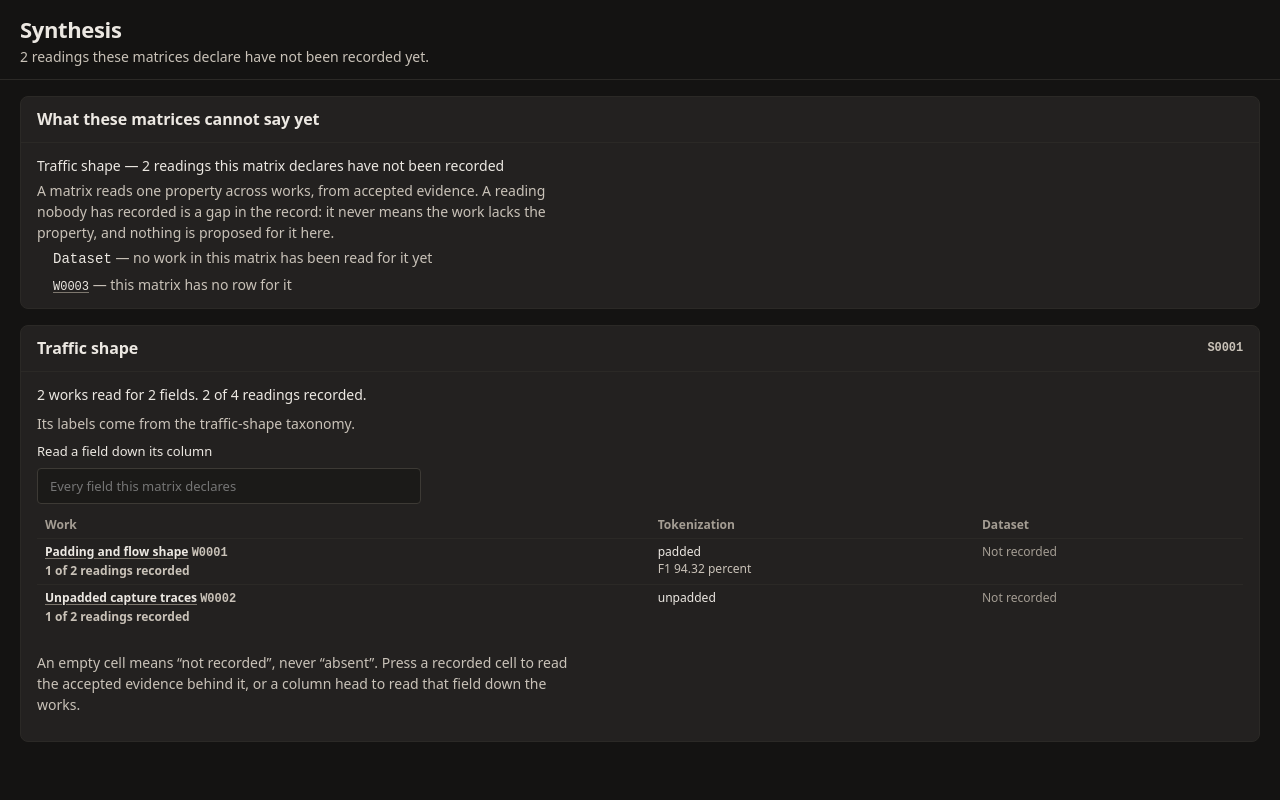
Test: the synthesis page › reads a column down by pressing its head, and unmarks it by pressing again
The width and height of the screenshot is (1280, 800).
Click the button "Tokenization" at [696, 525], box [658,516,966,534]
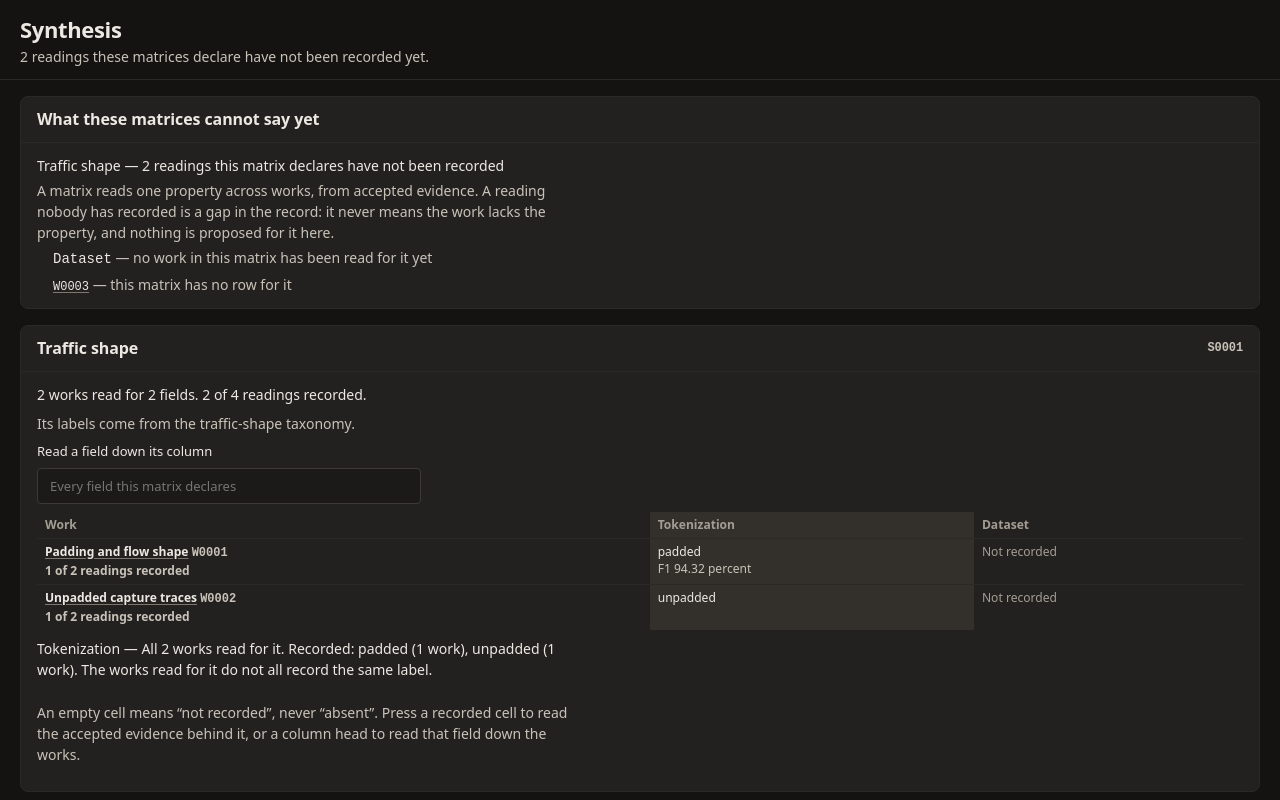
Result: the text "do not all record the same label" is shown at [37,639,555,679]
Click the button "Tokenization" at [696, 525], box [658,516,966,534]
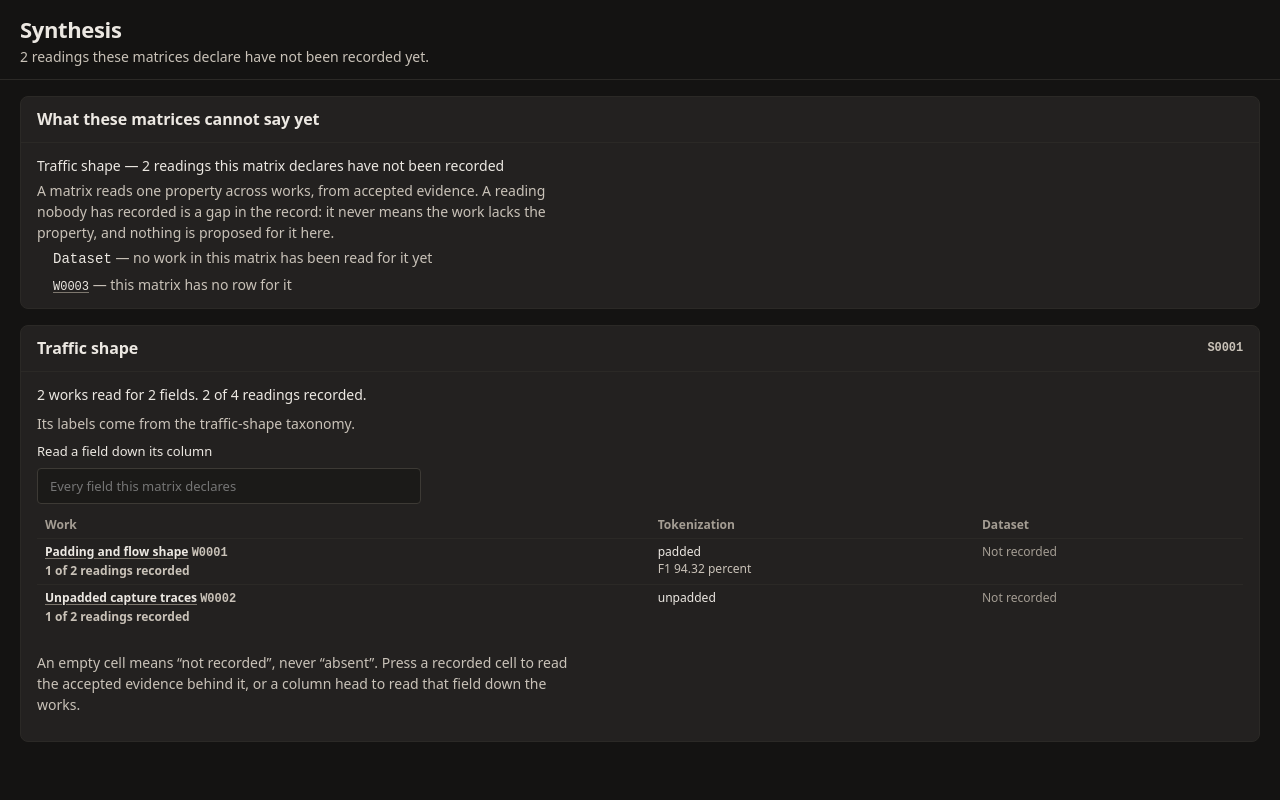
Result: the text "do not all record the same label" is gone
